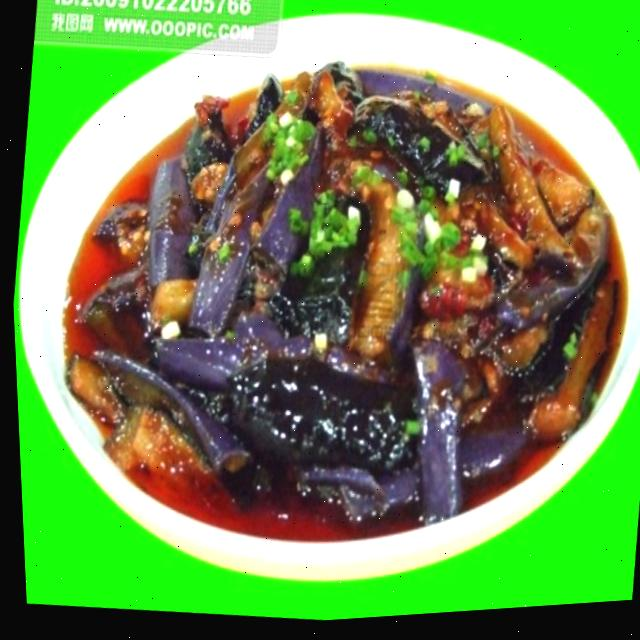鸡蛋料理: (2, 0, 640, 616)
